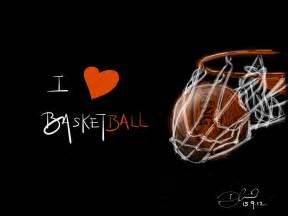basketball: (170, 83, 246, 158)
